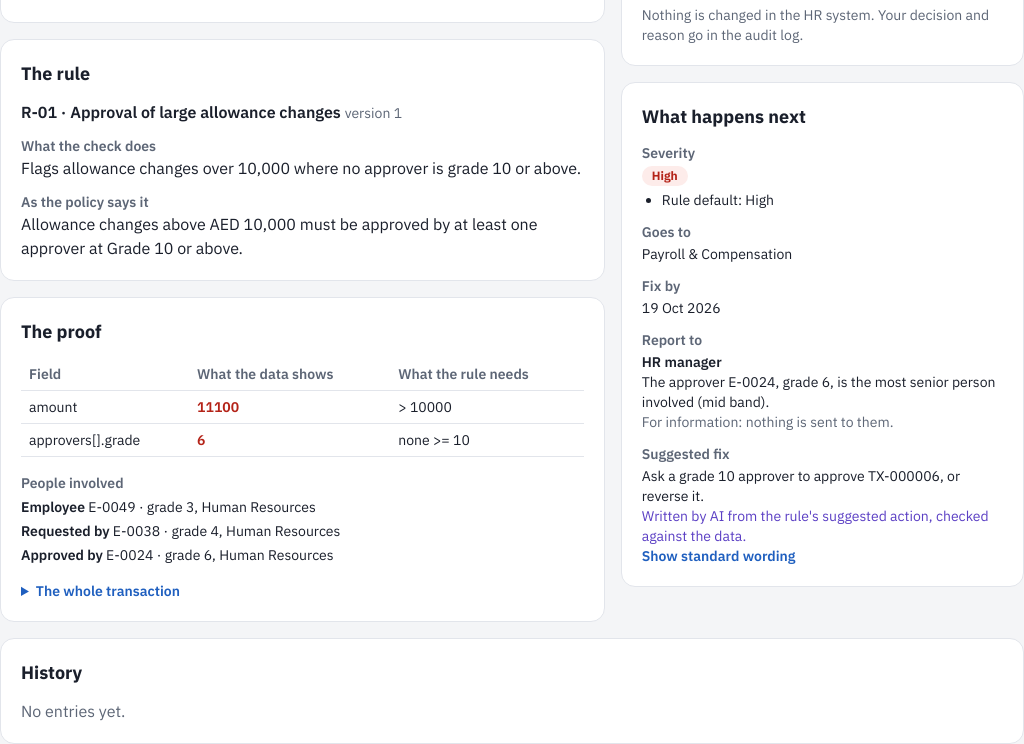
Scenario: FlagPage › labels an AI-written fix, with the standard fix one click away
This screenshot has width=1024, height=744.
(page scrolled)
Expected: the element with test id "flag-next" shows "Ask a grade 10 approver to approve TX-000006, or reverse it.", [642,467,960,505]
Expected: the element with test id "flag-next" shows "Written by AI from the rule's suggested action, checked against the data.", [642,507,989,545]
What coordinates should you click on to do the following:
click the button "Show standard wording" below "Suggested fix"
I would click on:
 (719, 556)
Its box is [642,546,795,566].
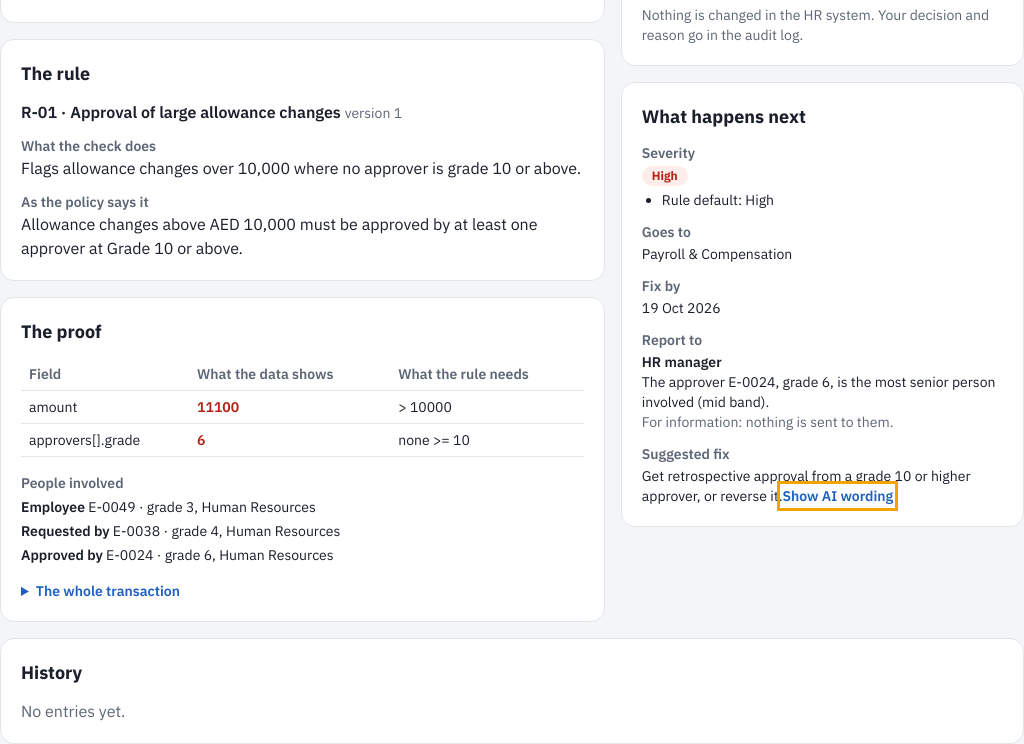
Expected: the element with test id "flag-next" shows "Get retrospective approval from a grade 10 or higher approver, or reverse it.", [642,467,970,505]
